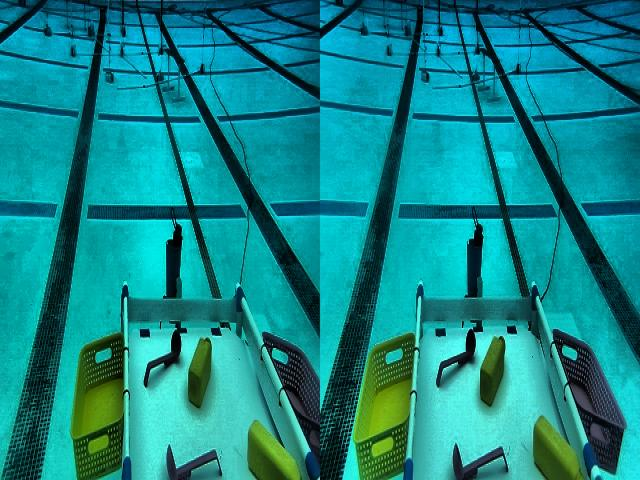octagon_table: (354, 207, 628, 480), (68, 207, 320, 480)
path_marker: (162, 47, 185, 105), (478, 46, 500, 104)
